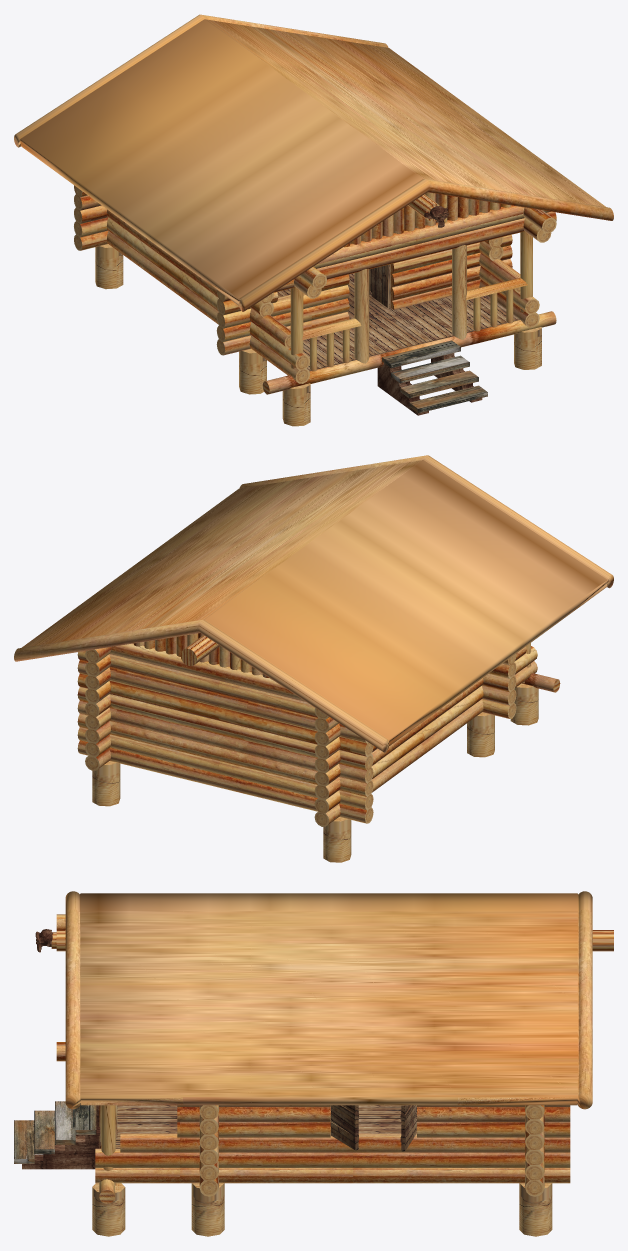
Rendered from cabana.fbx.
3 views of the same model, one above another, from view 1: azimuth 30°, elevation 25°; view 2: azimuth 150°, elevation 25°; view 3: azimuth 270°, elevation 25° (orthographic). The views are drawn at different scales.
Visible parts, largest first — view 1: Cylinder.079, Cylinder.002, Cube, Cylinder.012, Cube.004, Cylinder.001, Cylinder.043, Cylinder.018, Cylinder.008, Cylinder.007, Cylinder.006, Cube.007 (+4 smaller); view 2: Cylinder.079, Cylinder.002, Cylinder.012, Cylinder.001, Cylinder.018, Cylinder.078; view 3: Cylinder.079, Cylinder.002, Cylinder.012, Cube.004, Cube, Cylinder.001, Cube.007, Cube.009, Cylinder.003, Cylinder.078, Cube.010.
Boxes of the visible parts, x1,y1,x2,y2 form: Cylinder.079: (14, 14, 613, 311); Cylinder.002: (80, 191, 556, 382); Cube: (277, 273, 520, 371); Cylinder.012: (95, 244, 541, 426); Cube.004: (382, 340, 487, 413); Cylinder.001: (74, 185, 556, 383); Cylinder.043: (262, 311, 556, 394); Cylinder.018: (344, 192, 511, 247); Cylinder.008: (310, 289, 513, 371); Cylinder.007: (354, 269, 369, 363); Cylinder.006: (452, 245, 466, 339); Cube.007: (377, 353, 482, 415); Cylinder.079: (14, 455, 613, 752); Cylinder.002: (77, 643, 537, 824); Cylinder.012: (92, 683, 538, 862); Cylinder.001: (85, 649, 516, 826); Cylinder.018: (133, 633, 268, 677); Cylinder.078: (180, 635, 219, 665); Cylinder.079: (65, 891, 592, 1109); Cylinder.002: (56, 914, 570, 1187); Cylinder.012: (92, 1183, 552, 1236); Cube.004: (14, 1101, 96, 1163); Cube: (115, 1105, 416, 1148); Cylinder.001: (199, 1105, 544, 1196); Cube.007: (22, 1105, 100, 1169); Cube.009: (330, 1105, 358, 1150); Cylinder.003: (101, 1105, 115, 1185); Cylinder.078: (51, 930, 613, 951); Cube.010: (400, 1105, 416, 1151).
Size of the model in its own units: 6.72 by 3.92 by 8.32.
9 materials, 9 textured.
